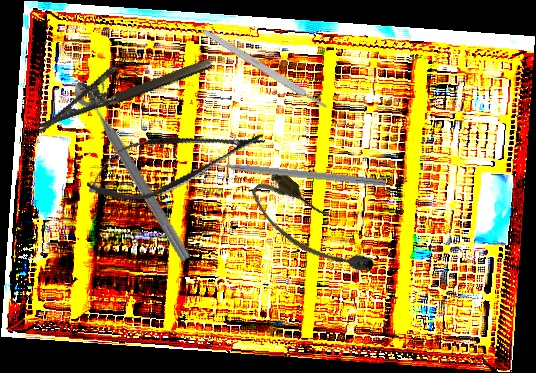Cannula: (243, 164, 382, 294)
Chopper: (197, 149, 389, 187)
Fixation Ring: (69, 70, 206, 266)
Micro Scissor: (79, 109, 272, 213)
Needle Holder: (26, 34, 214, 133)
Scalpel Handle: (200, 26, 330, 112)
